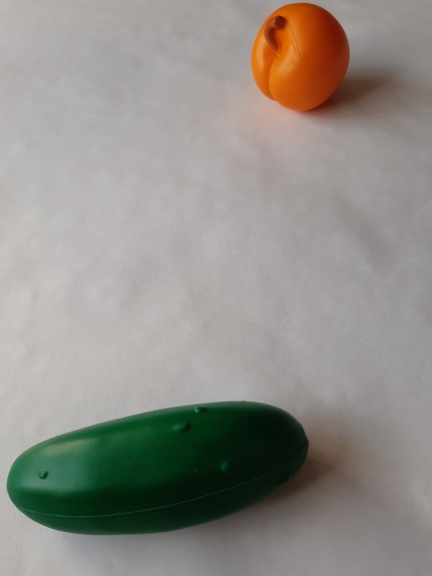apricot: (239, 1, 361, 123)
cucumber: (4, 393, 324, 551)
